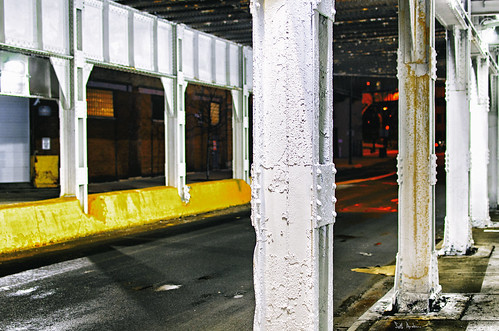collumn: (245, 2, 351, 331), (391, 1, 443, 310), (439, 28, 480, 261), (46, 54, 102, 215), (162, 73, 194, 206), (228, 85, 257, 186)
street: (1, 165, 436, 331)
